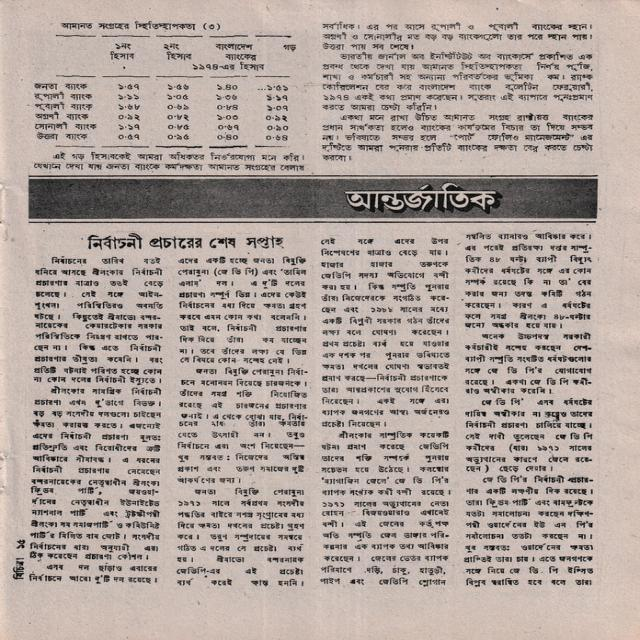page number: (14, 537, 27, 552)
paragraph: (319, 235, 451, 430), (28, 385, 162, 562), (318, 430, 452, 589), (315, 49, 594, 115), (29, 255, 165, 386), (175, 366, 310, 486), (463, 473, 596, 590), (176, 254, 308, 367), (172, 485, 307, 594), (321, 111, 595, 162), (462, 230, 594, 330), (464, 397, 595, 474), (319, 19, 595, 53), (463, 331, 595, 396), (28, 151, 306, 173), (28, 563, 160, 584)
table: (31, 32, 306, 149)
text: (190, 42, 269, 72), (34, 120, 98, 131), (33, 91, 94, 102), (162, 42, 193, 62), (34, 101, 95, 111), (108, 42, 138, 61), (34, 111, 90, 121), (36, 131, 89, 141), (33, 82, 89, 91), (10, 556, 26, 581), (256, 84, 289, 92), (215, 102, 241, 112), (215, 132, 240, 142), (215, 91, 240, 101), (117, 123, 142, 132), (215, 113, 240, 122), (215, 82, 240, 91), (264, 114, 289, 123), (117, 133, 141, 142), (166, 113, 190, 122), (265, 94, 291, 102), (265, 124, 291, 132), (217, 123, 240, 132), (117, 103, 142, 111), (166, 103, 191, 111), (166, 133, 191, 141), (167, 83, 189, 92), (117, 113, 141, 121), (167, 93, 191, 101), (167, 123, 191, 131), (265, 134, 289, 142), (118, 83, 141, 91), (117, 93, 140, 101), (266, 104, 289, 112), (281, 42, 297, 53)
title: (340, 180, 503, 215), (85, 228, 291, 253), (59, 19, 225, 32)
